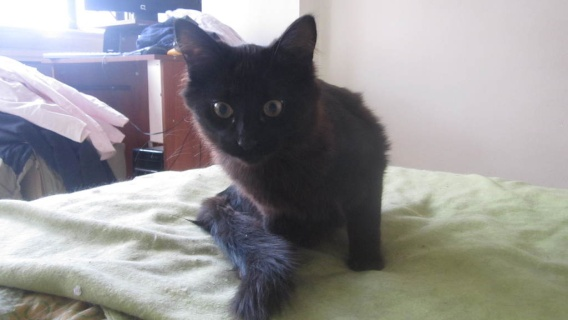Cat: (171, 9, 393, 319)
